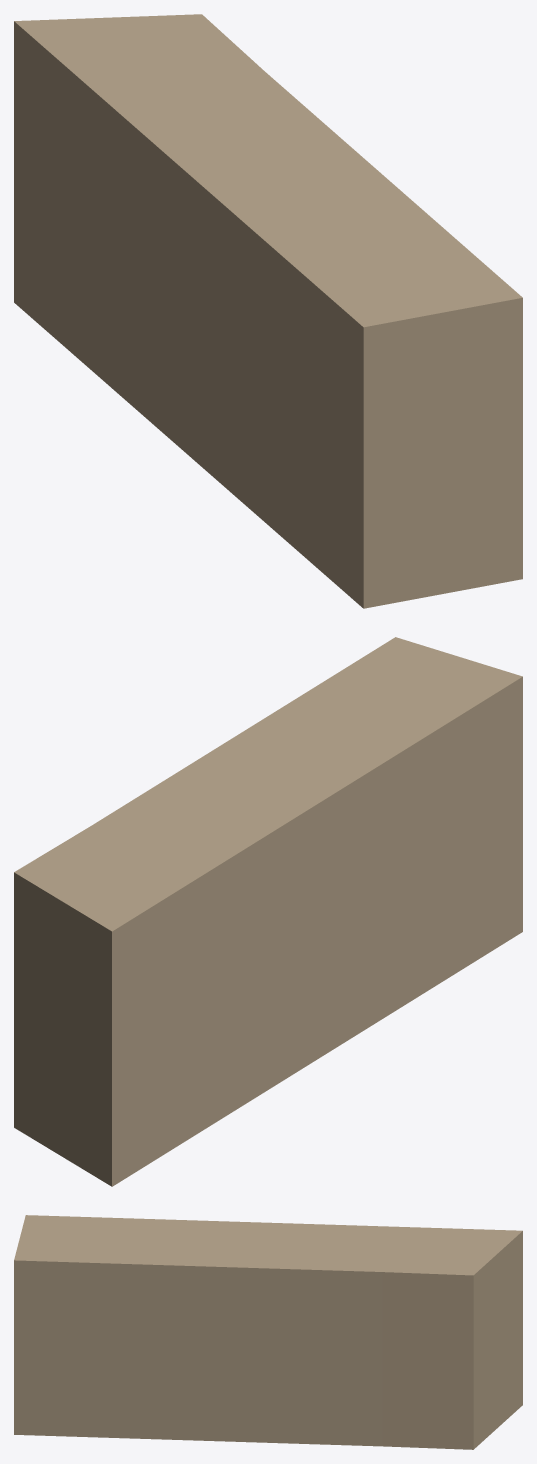
Rendered from bld_98640388.dae.
The picture shows the model from 3 angles, top to bottom: view 1: azimuth 30°, elevation 25°; view 2: azimuth 150°, elevation 25°; view 3: azimuth 270°, elevation 25°; orthographic projection. The views are drawn at different scales.
Visible parts, largest first — view 1: Kate Lifestyle; view 2: Kate Lifestyle; view 3: Kate Lifestyle.
Part boxes in pixels (bbox=[...]): Kate Lifestyle: bbox=[14, 14, 522, 608]; Kate Lifestyle: bbox=[14, 637, 522, 1186]; Kate Lifestyle: bbox=[14, 1215, 522, 1449].
Size of the model in its own units: 5.94 by 21.16 by 8.
